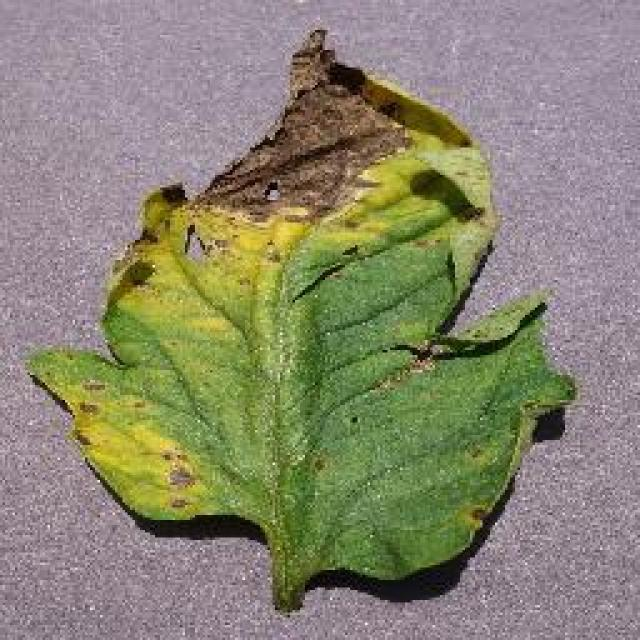Tomato Septoria spot leaf: (34, 30, 578, 580)
